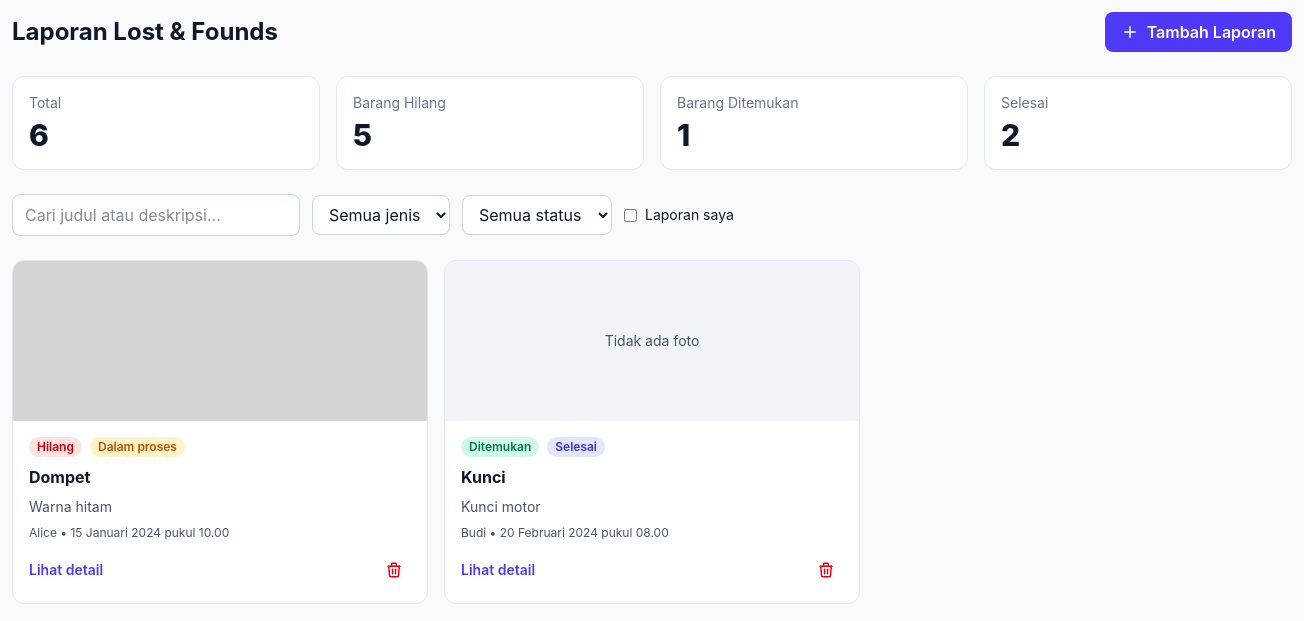
Scenario: HomePage › mencari laporan berdasarkan judul
The width and height of the screenshot is (1304, 621).
Expected: the heading "Dompet" is shown, [29, 467, 90, 487]
In the search field named "Cari laporan": [156, 215] box [12, 194, 300, 236], type "kunci"
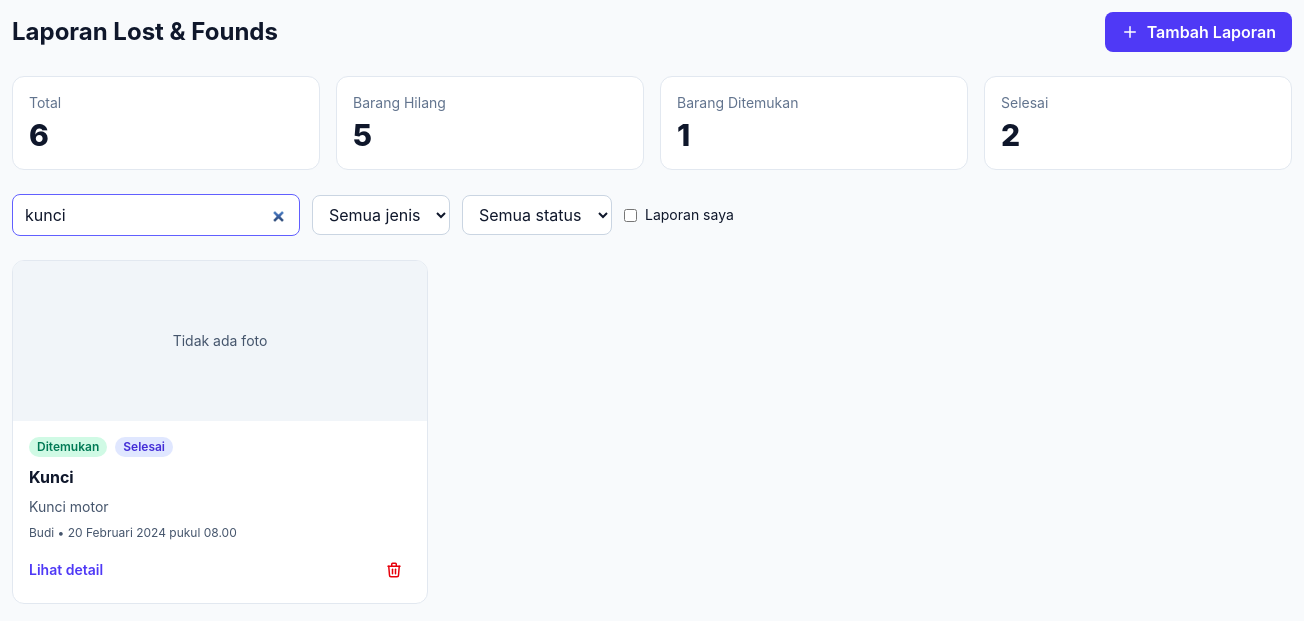
Expected: the heading "Kunci" is shown, [29, 467, 74, 487]
Result: the heading "Dompet" is gone
